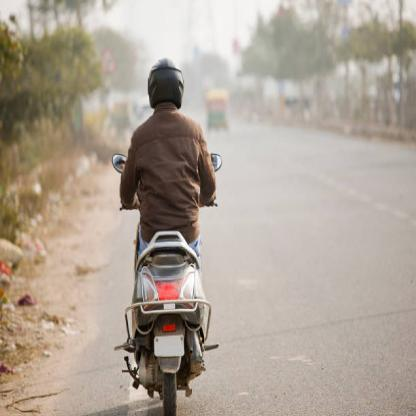Motorcycle: (106, 149, 236, 416)
